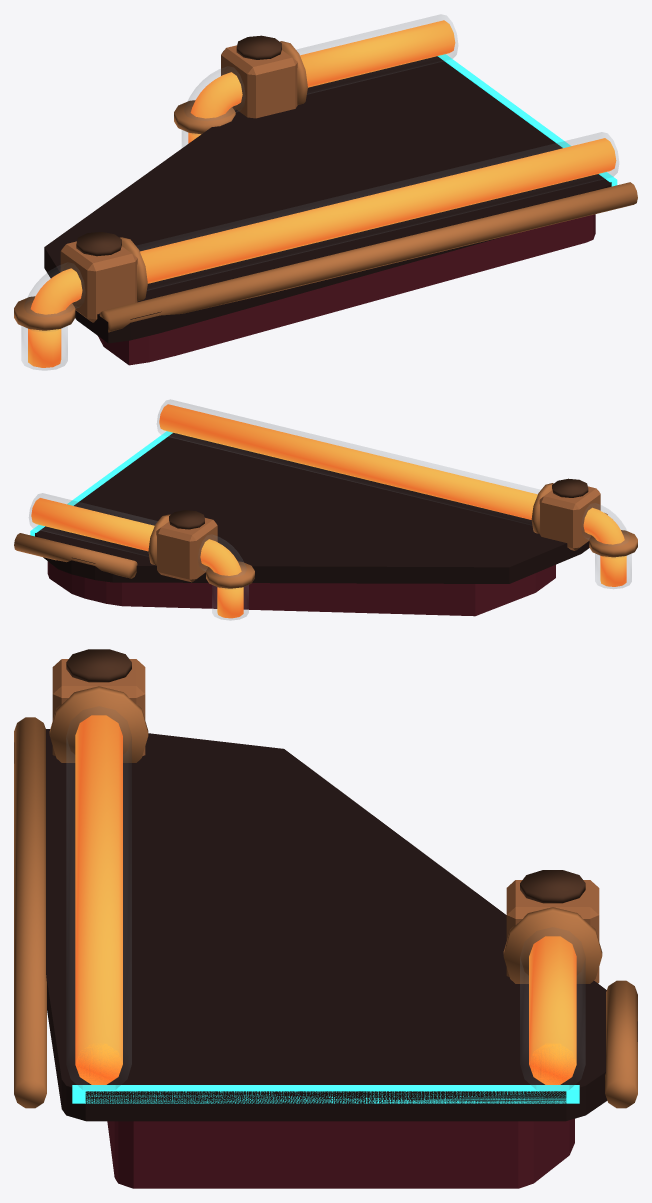
File: Pier_Angled_75.glb
The picture shows the model from 3 angles, top to bottom: view 1: azimuth 30°, elevation 25°; view 2: azimuth 150°, elevation 25°; view 3: azimuth 270°, elevation 25°; orthographic projection. The views are drawn at different scales.
Parts seen in each view (by area): view 1: CP_Pier_Angled_75; view 2: CP_Pier_Angled_75; view 3: CP_Pier_Angled_75.
Part boxes in pixels (x1,y1,x2,y2): CP_Pier_Angled_75: (14,14,637,370); CP_Pier_Angled_75: (14,399,637,620); CP_Pier_Angled_75: (14,649,637,1188).
Bounding box in the file's own units: 6.43 × 1.31 × 4.18.
